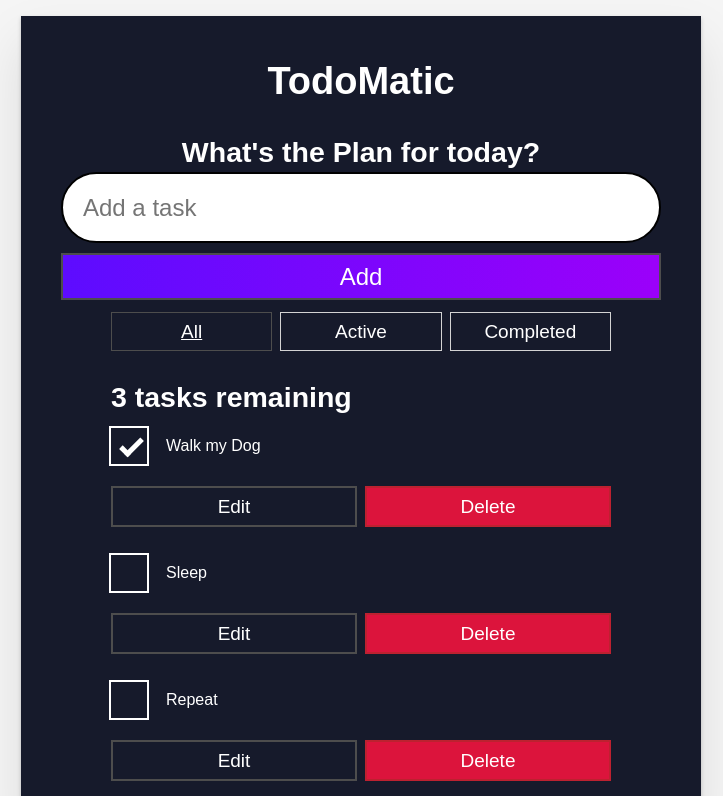
Test case: Testing filter buttons functionality › Should update heading when active button is pressed
The width and height of the screenshot is (723, 796).
Click the button with test id "Activefilter" at (361, 331), box x1=280 y1=312 x2=442 y2=350
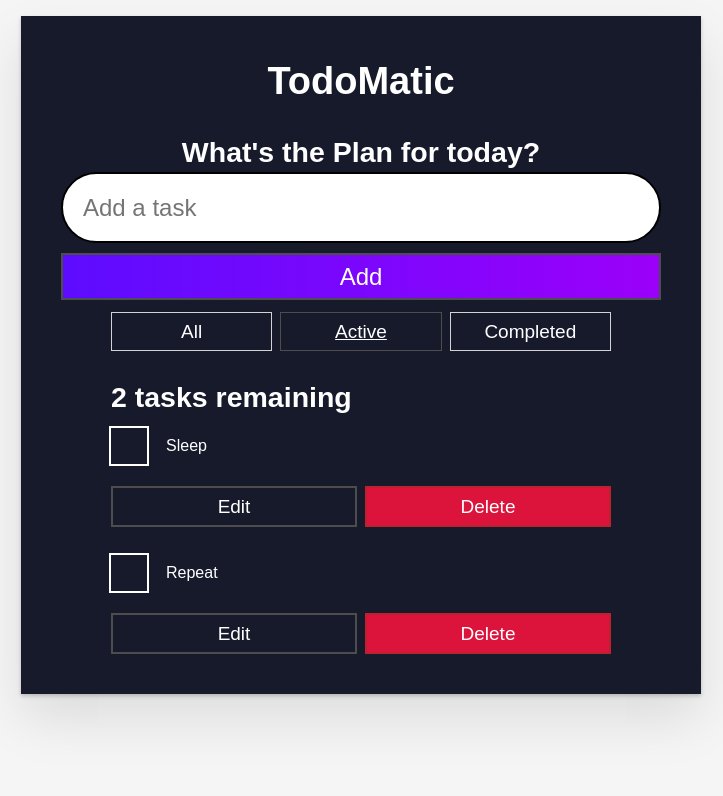
Expected: the heading with test id "task-list-heading" reads "2 tasks remaining", x1=111 y1=380 x2=352 y2=412
